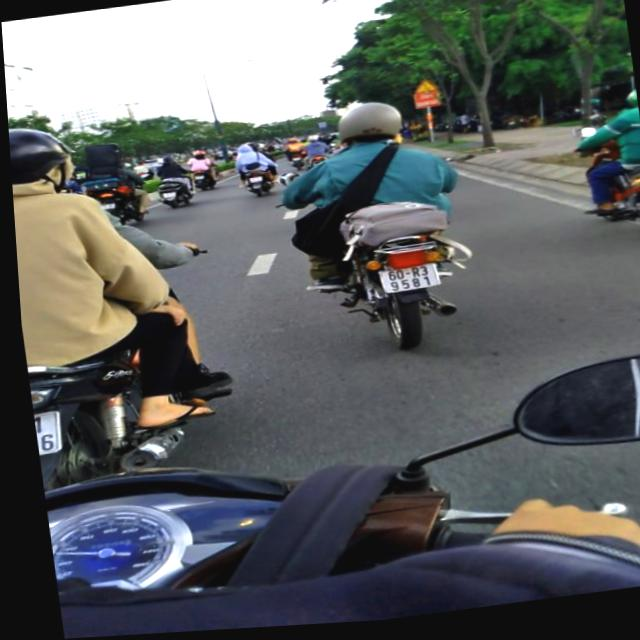Ben xe buyt: (315, 124, 325, 133)
Di cham: (409, 81, 437, 99)
